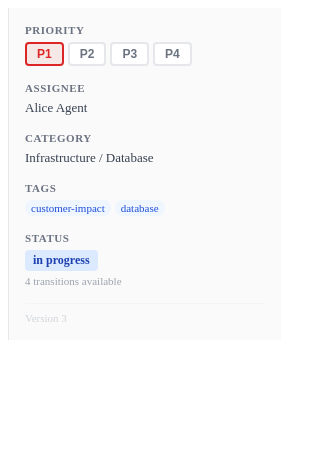
it: PropertySidebar › shows conflict banner when 409 received and preserves edits
This screenshot has width=320, height=468.
// Click P2 priority button
Click the button "P2" at (87, 54), box [68,42,106,66]
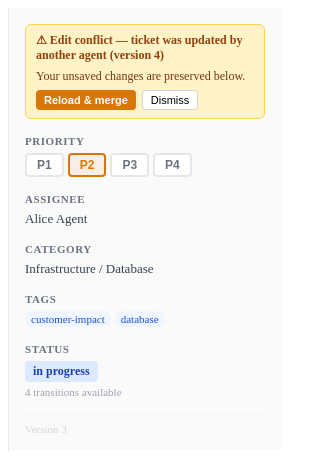
Check: the message is shown, box [25,24,265,119]
Check: the text "Edit conflict" is shown, box [36,33,242,62]
